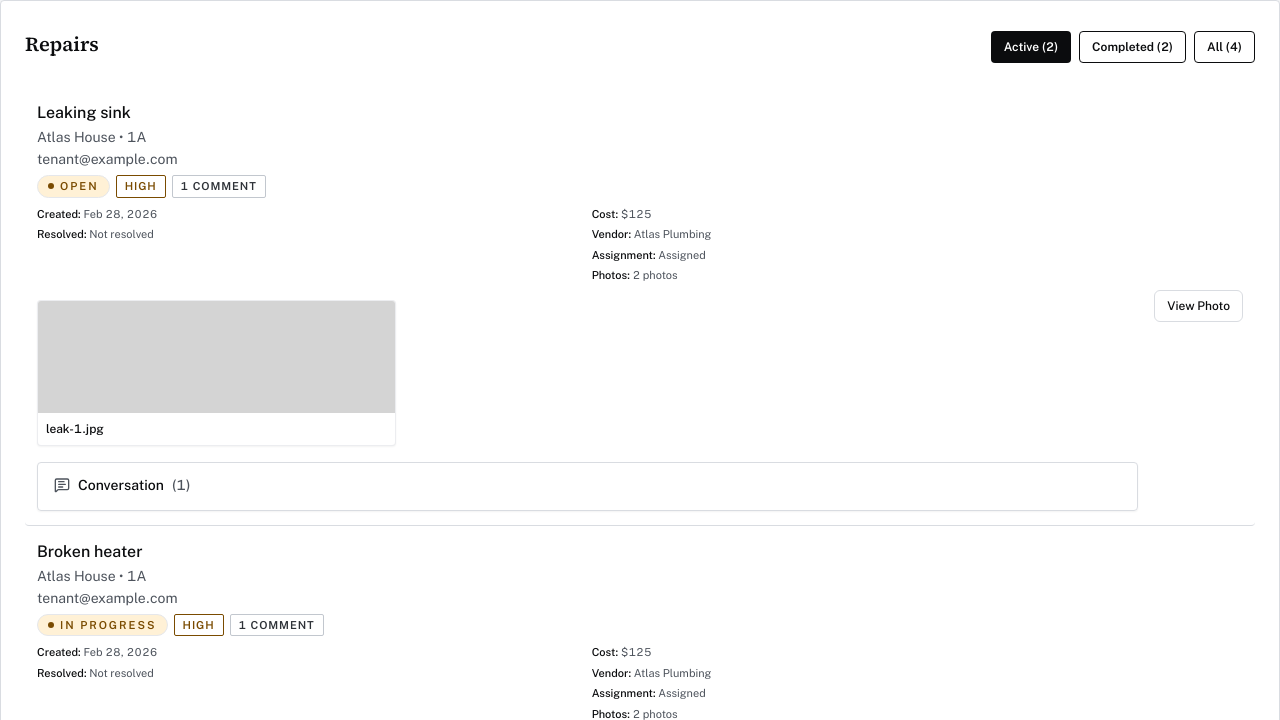
Test case: MaintenanceSection › shows only completed tickets when the completed filter is selected
The image size is (1280, 720).
Click the button "Completed (2)".
click(1133, 47)  # box [1079,31,1186,63]
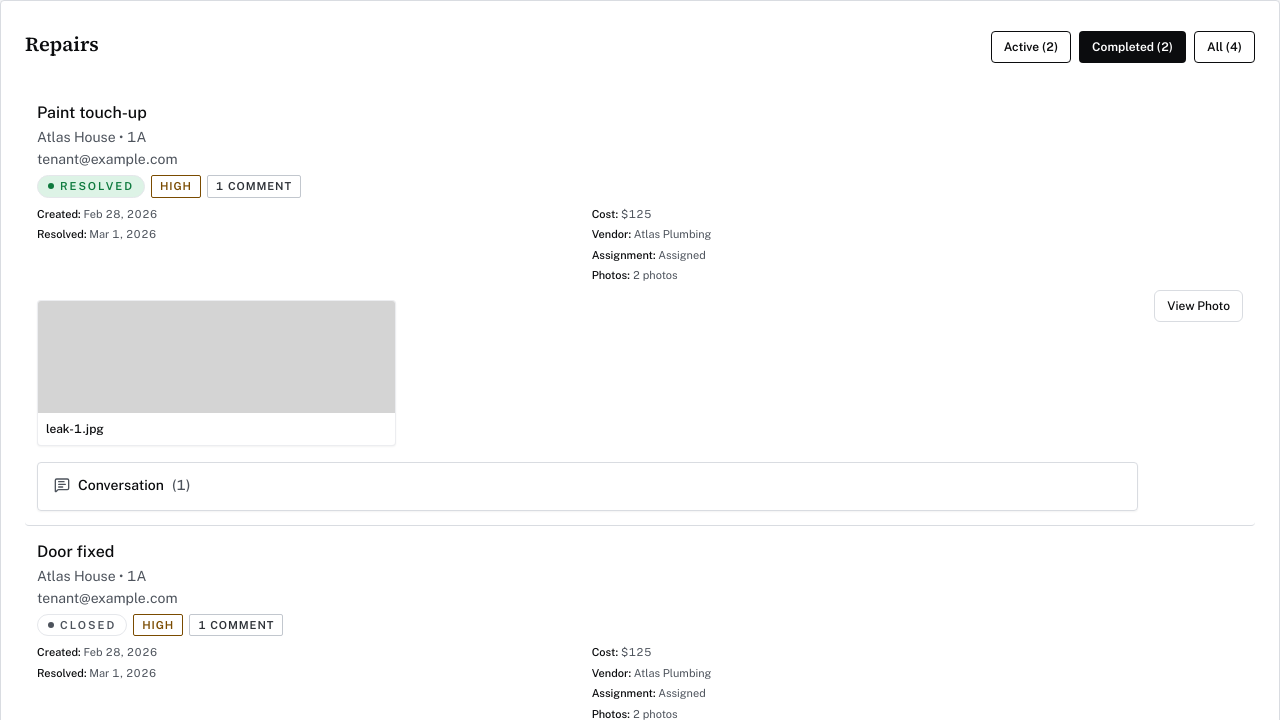
Now the text "Leaking sink" is gone
Now the text "Broken heater" is gone
Now the text "Paint touch-up" is shown, box [37,103,147,122]
